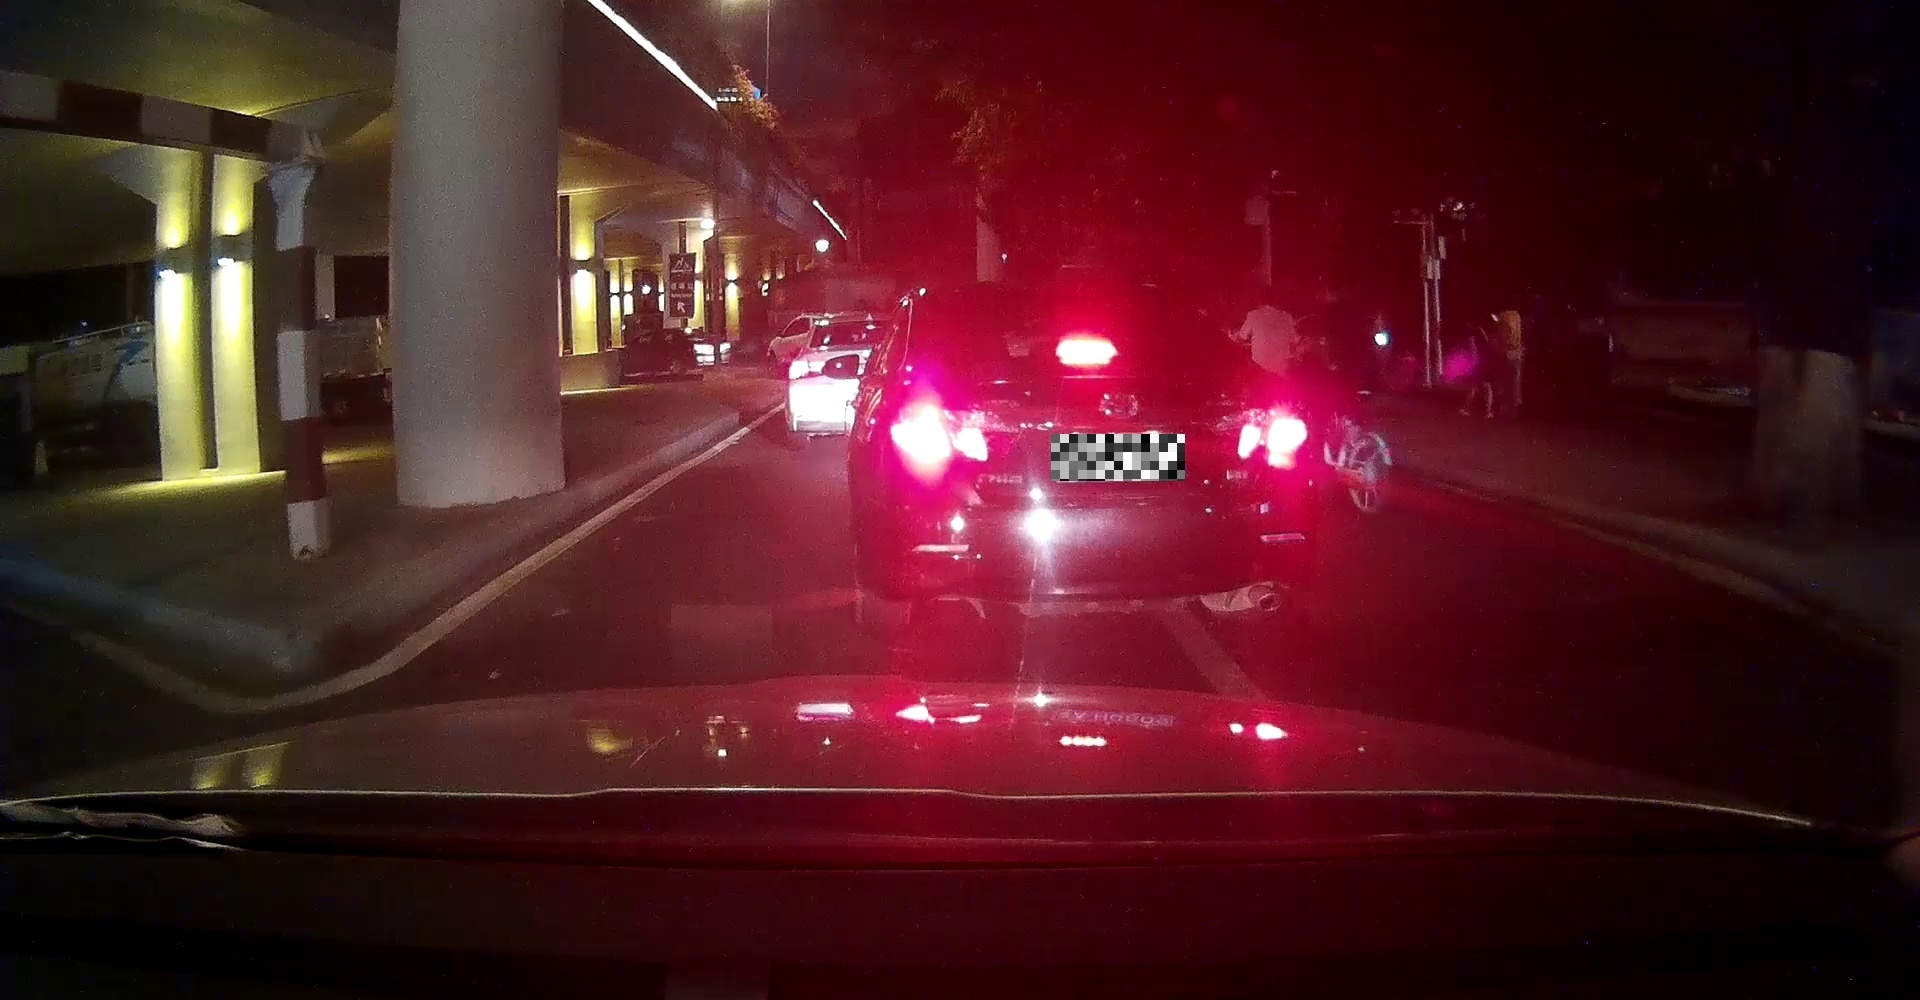L_light: (893, 409, 989, 468)
R_light: (1237, 412, 1310, 471)
T_light: (1053, 336, 1117, 363)
night-brake: (875, 283, 1316, 635)
plate_1: (1051, 434, 1185, 481)
